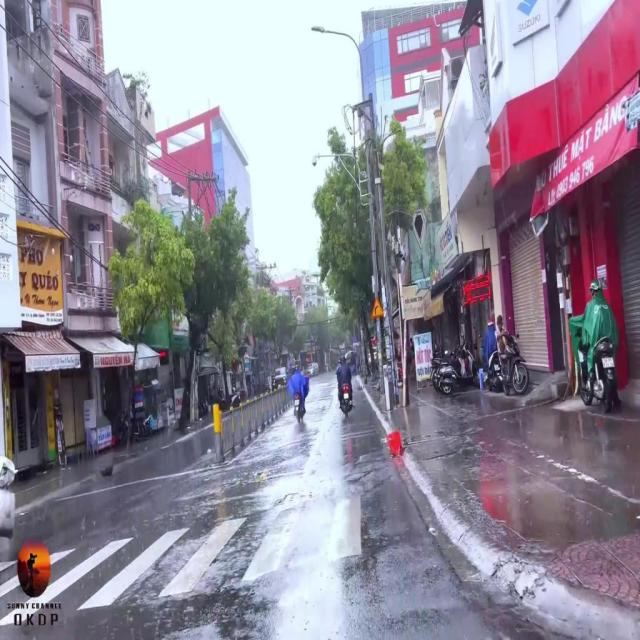cho_ngoat_nguy_hiem_ben_phai: (371, 294, 385, 319)
